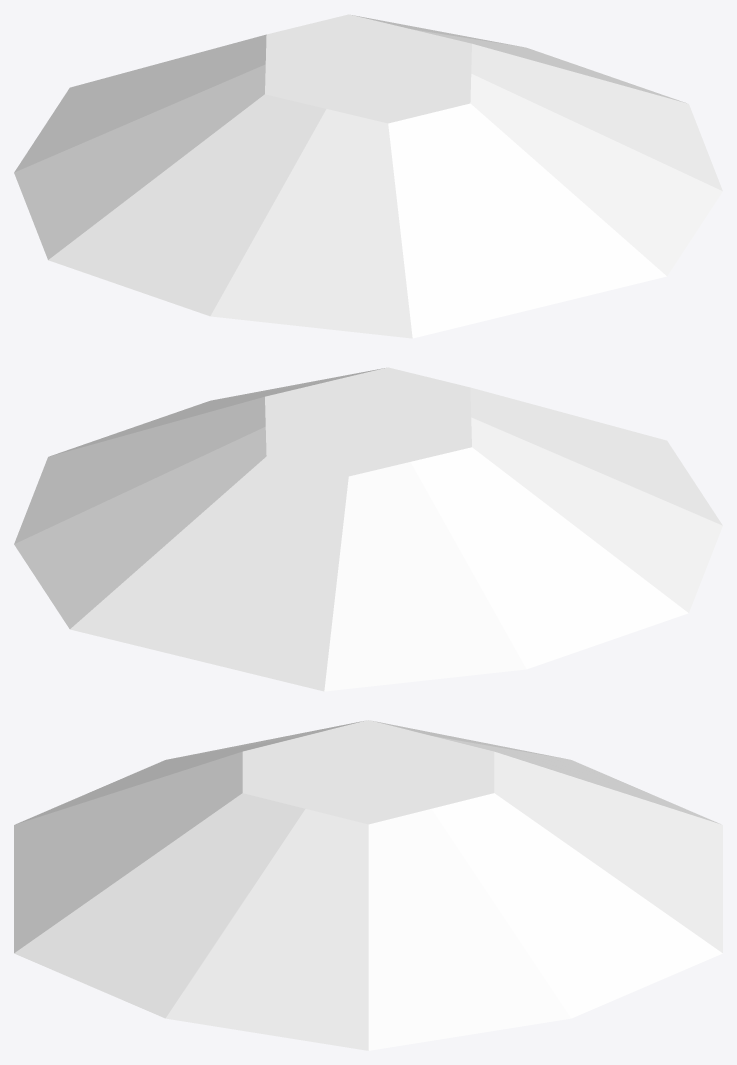
File: SpiderWeb.fbx
3 renders of one model, top to bottom at view 1: azimuth 30°, elevation 25°; view 2: azimuth 150°, elevation 25°; view 3: azimuth 270°, elevation 25°, orthographic. The views are drawn at different scales.
Visible parts, largest first — view 1: pPlane1; view 2: pPlane1; view 3: pPlane1.
Part boxes in pixels (x1=…): pPlane1: x1=14, y1=14, x2=722, y2=338; pPlane1: x1=14, y1=367, x2=722, y2=691; pPlane1: x1=14, y1=720, x2=722, y2=1050.
Bounding box in the file's own units: 4.78 × 0.8066 × 4.43.
Materials: 1 (1 with a texture image).
